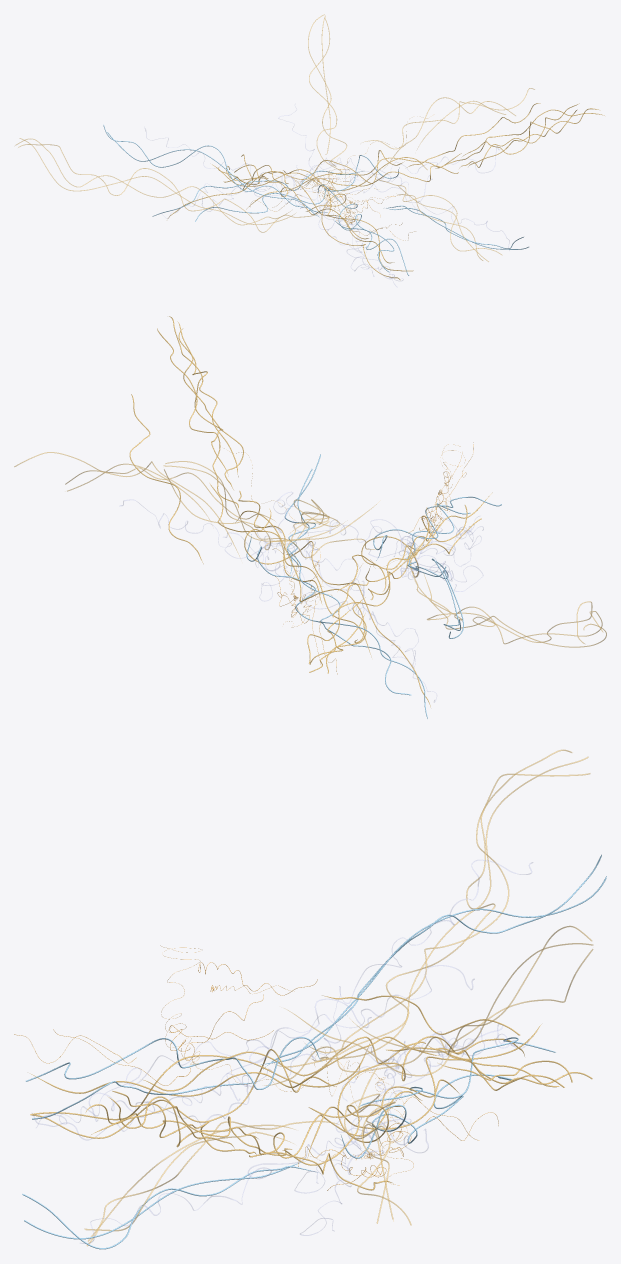
File: www9.glb
The picture shows the model from 3 angles, top to bottom: view 1: azimuth 30°, elevation 25°; view 2: azimuth 150°, elevation 25°; view 3: azimuth 270°, elevation 25°; orthographic projection. The views are drawn at different scales.
Parts seen in each view (by area): view 1: 23-09-25 11-52-11nina.obj.020; view 2: 23-09-25 11-52-11nina.obj.020; view 3: 23-09-25 11-52-11nina.obj.020.
Boxes of the visible parts, <box> form: 23-09-25 11-52-11nina.obj.020: <box>15,14,604,286</box>; 23-09-25 11-52-11nina.obj.020: <box>14,316,606,718</box>; 23-09-25 11-52-11nina.obj.020: <box>14,749,606,1249</box>.
Size of the model in its own units: 129 by 39.98 by 76.46.
